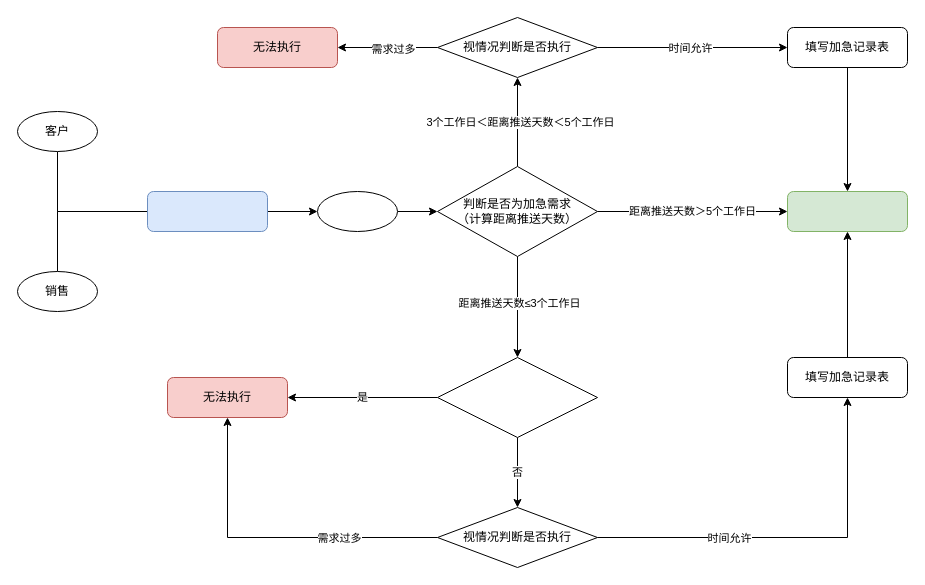
The diagram is 925 pixels wide and 585 high, and some of its shapes have lost their labels. The shapes that lost their labels are listed below. From the top down, each one's centre as x and y in pixels, then its label:
At point 207,211: "商业微信需求".
At point 357,211: "客户运营".
At point 847,211: "执行".
At point 517,397: "当前是否为旺季 （3、4、10、11月）".
